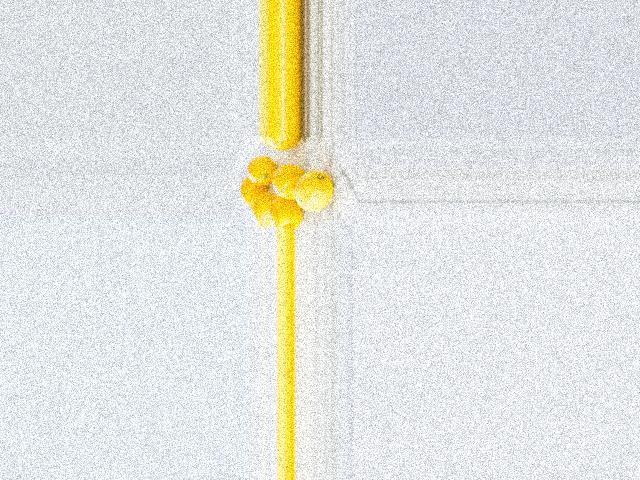lemon: (292, 164, 333, 216)
